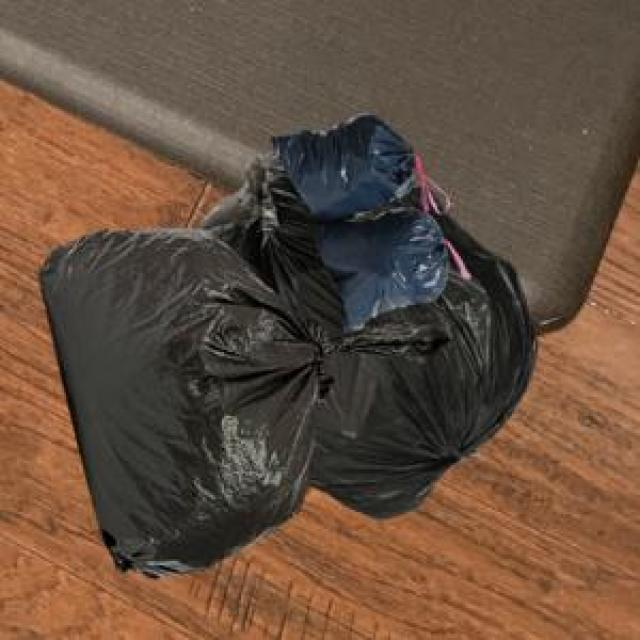Trashbag: (42, 226, 330, 571), (314, 213, 466, 333), (271, 115, 415, 224)
